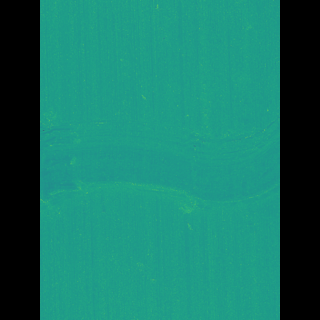Loch: (68, 101, 250, 227)
